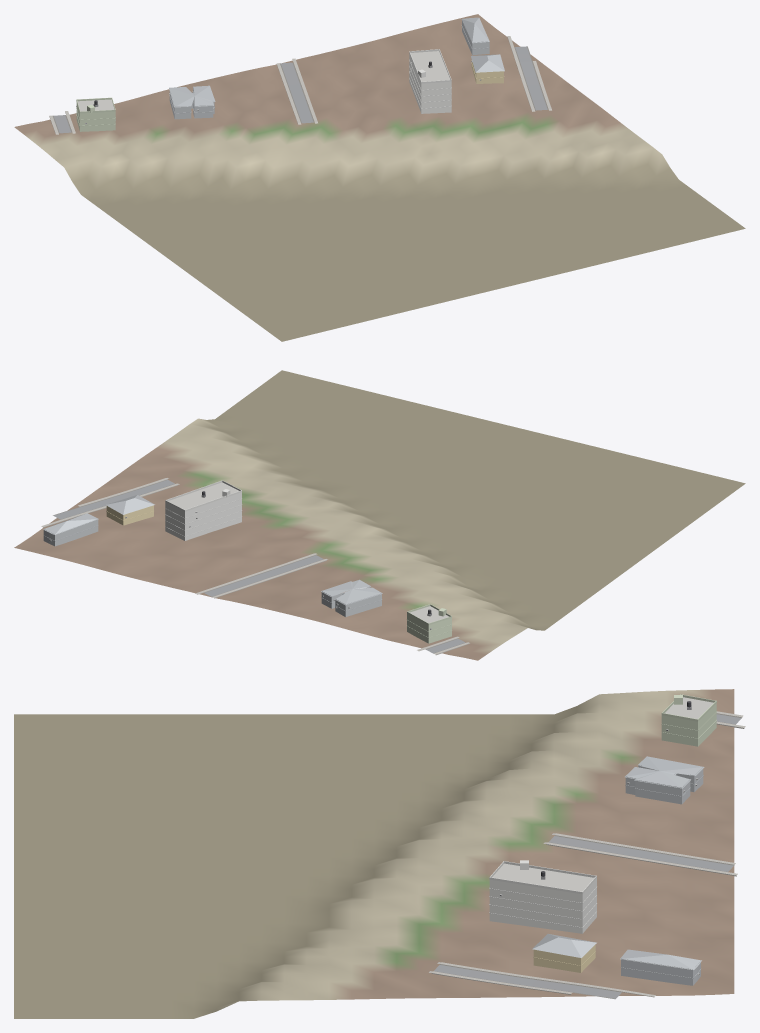
The picture shows the model from 3 angles, top to bottom: view 1: azimuth 30°, elevation 25°; view 2: azimuth 150°, elevation 25°; view 3: azimuth 270°, elevation 25°; orthographic projection. The views are drawn at different scales.
Visible parts, largest first — view 1: Terrain-col, Buildings-col, Roads-col, Sidewalks-col, Details; view 2: Terrain-col, Buildings-col, Roads-col, Details, Sidewalks-col; view 3: Terrain-col, Buildings-col, Roads-col, Sidewalks-col, Details.
Part boxes in pixels (left/top/right/bottom): Terrain-col: left=14, top=14, right=745, bottom=341; Buildings-col: left=76, top=17, right=504, bottom=131; Roads-col: left=52, top=46, right=548, bottom=133; Sidewalks-col: left=49, top=36, right=551, bottom=134; Details: left=76, top=25, right=504, bottom=126; Terrain-col: left=14, top=370, right=745, bottom=660; Buildings-col: left=43, top=482, right=451, bottom=643; Roads-col: left=53, top=479, right=465, bottom=653; Details: left=43, top=480, right=452, bottom=637; Sidewalks-col: left=41, top=478, right=469, bottom=655; Terrain-col: left=14, top=689, right=734, bottom=1018; Buildings-col: left=489, top=697, right=716, bottom=985; Roads-col: left=434, top=713, right=741, bottom=999; Sidewalks-col: left=429, top=711, right=745, bottom=997; Details: left=489, top=694, right=716, bottom=978.
Size of the model in its own units: 259 by 27.25 by 260.
